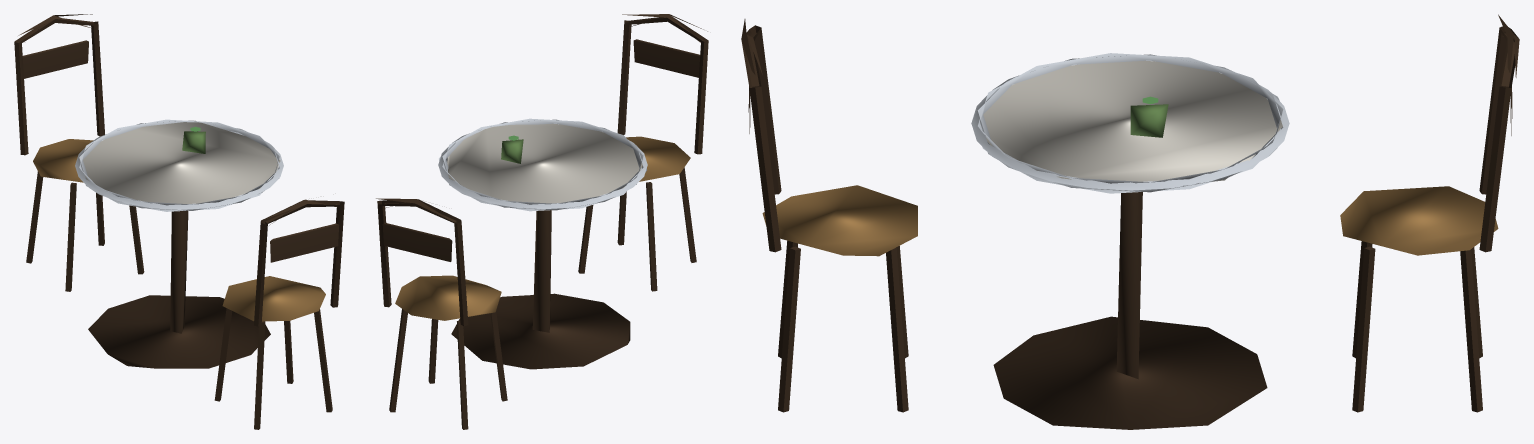
File: lod_bistro_set.glb
The picture shows the model from 3 angles, left to right: view 1: azimuth 30°, elevation 25°; view 2: azimuth 150°, elevation 25°; view 3: azimuth 270°, elevation 25°; orthographic projection. The views are drawn at different scales.
Parts seen in each view (by area): view 1: bistro_set; view 2: bistro_set; view 3: bistro_set.
Part boxes in pixels (x1,y1,x2,y2): bistro_set: (14,14,344,429); bistro_set: (376,14,708,429); bistro_set: (741,14,1519,429).
Size of the model in its own units: 0.798 by 0.9671 by 1.95.
